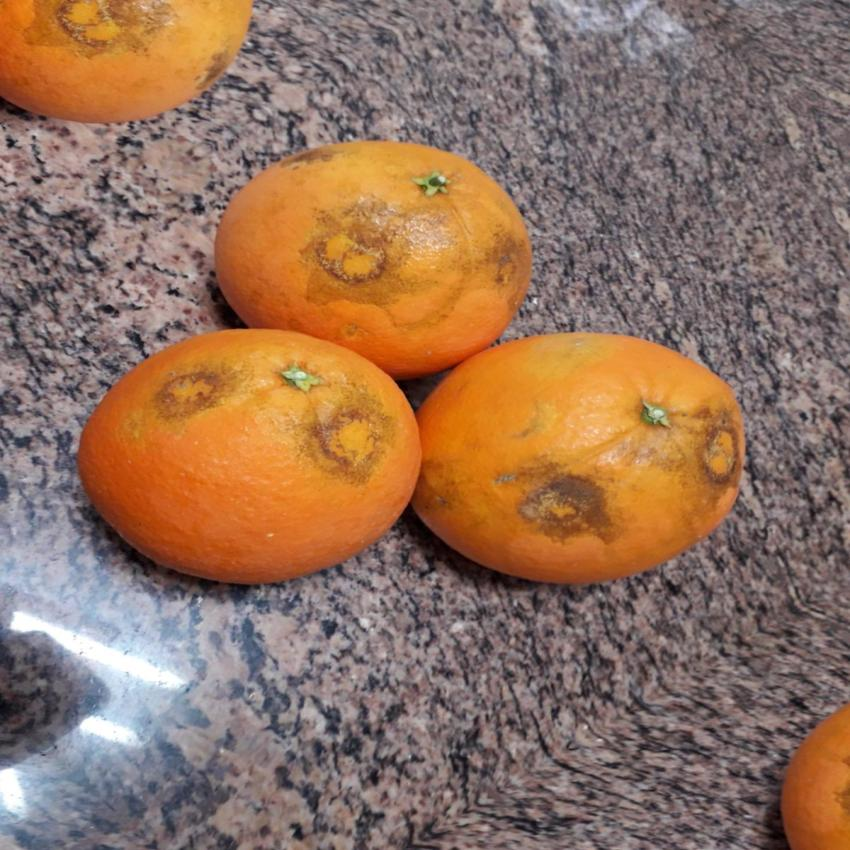Mal estado: (54, 343, 450, 597), (415, 318, 769, 584), (201, 121, 546, 380)
